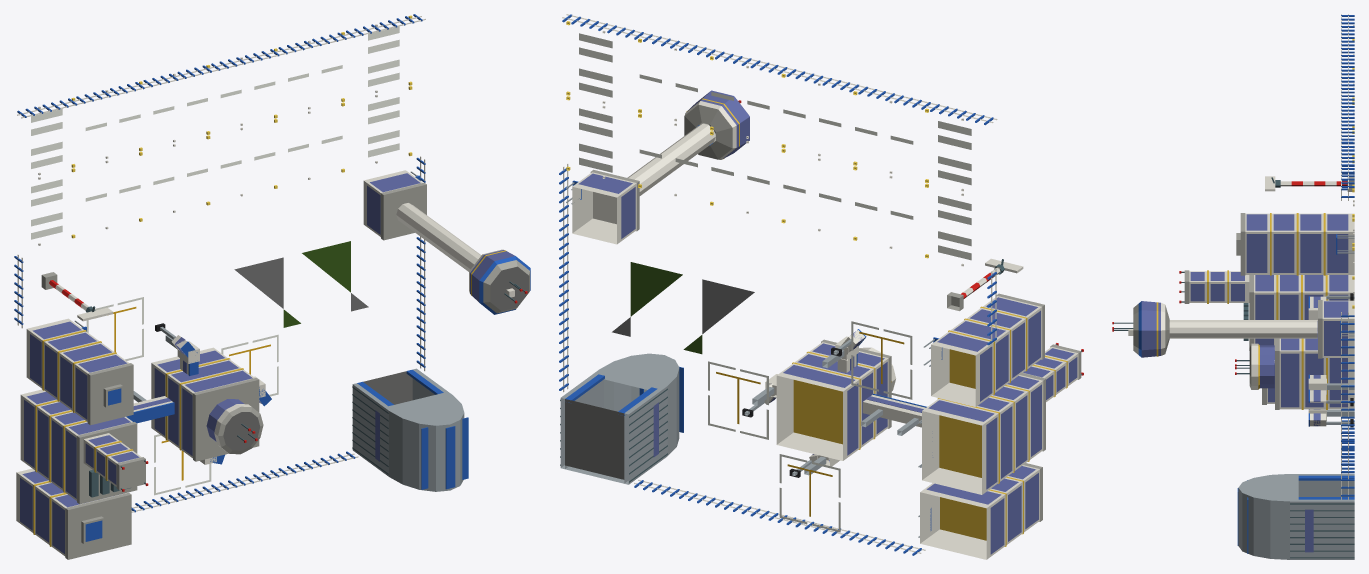
3 renders of one model, left to right at view 1: azimuth 30°, elevation 25°; view 2: azimuth 150°, elevation 25°; view 3: azimuth 270°, elevation 25°, orthographic. The views are drawn at different scales.
Visible parts, largest first — view 1: t5_0_g24, t0_1_g19, t2_1_g21, t5_3_g20, t0_2_g22, t0_0_g23, t4_2_g12, t5_5_g18, t0_5_g18, t3_2_g5, t0_3_g52, t2_0_g25 (+9 smaller); view 2: t5_0_g24, t0_1_g19, t2_1_g21, t5_3_g20, t0_2_g22, t0_0_g23, t4_2_g12, t2_0_g25, t5_5_g18, t0_5_g18, t1_1_g28, t3_2_g5 (+11 smaller); view 3: t5_0_g24, t0_2_g22, t5_3_g20, t0_1_g19, t2_1_g21, t2_0_g25, t3_1_g26, t0_3_g52, t2_2_g27, t5_2_g13, t5_1_g2, t5_5_g18 (+5 smaller).
Boxes of the visible parts, box(x1,y1,x2,y2) form: t5_0_g24: box(352, 368, 468, 491); t0_1_g19: box(20, 389, 148, 504); t2_1_g21: box(151, 347, 263, 461); t5_3_g20: box(363, 156, 530, 314); t0_2_g22: box(26, 318, 133, 425); t0_0_g23: box(16, 468, 131, 559); t4_2_g12: box(283, 241, 350, 327); t5_5_g18: box(354, 14, 425, 92); t0_5_g18: box(17, 96, 88, 175); t3_2_g5: box(234, 257, 283, 308); t0_3_g52: box(14, 254, 113, 328); t2_0_g25: box(152, 434, 224, 506); t5_0_g24: box(560, 353, 683, 484); t0_1_g19: box(918, 343, 1083, 494); t2_1_g21: box(776, 339, 895, 460); t5_3_g20: box(559, 90, 749, 244); t0_2_g22: box(923, 293, 1044, 406); t0_0_g23: box(918, 463, 1042, 559); t4_2_g12: box(630, 262, 702, 354); t2_0_g25: box(777, 454, 853, 538); t5_5_g18: box(562, 14, 638, 103); t0_5_g18: box(921, 101, 997, 191); t1_1_g28: box(861, 393, 926, 435); t3_2_g5: box(702, 279, 754, 333); t5_0_g24: box(1237, 474, 1354, 559); t0_2_g22: box(1236, 213, 1354, 275); t5_3_g20: box(1112, 300, 1354, 374); t0_1_g19: box(1179, 270, 1354, 350); t2_1_g21: box(1235, 331, 1354, 409); t2_0_g25: box(1308, 409, 1354, 473); t3_1_g26: box(1308, 374, 1354, 406); t0_3_g52: box(1265, 141, 1354, 200); t2_2_g27: box(1308, 293, 1354, 330); t5_2_g13: box(1341, 374, 1354, 437); t5_1_g2: box(1341, 437, 1354, 499); t5_5_g18: box(1341, 159, 1354, 246).
Size of the model in its own units: 96 by 95.84 by 56.3.
